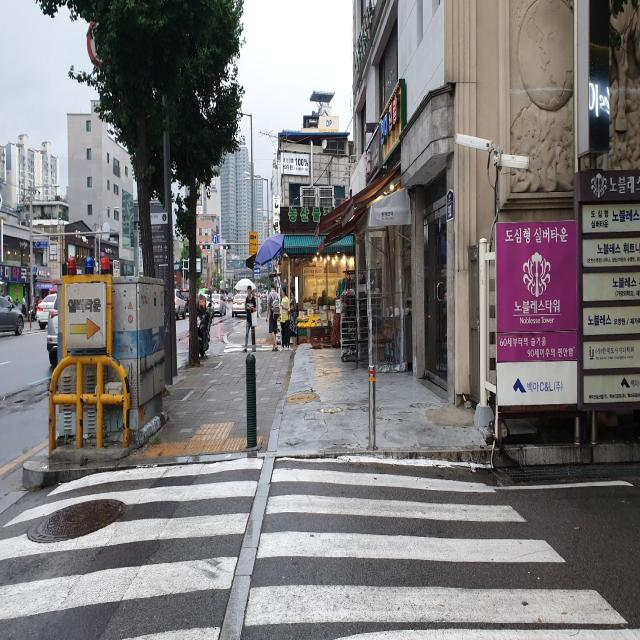횡단보도: (1, 452, 638, 638)
